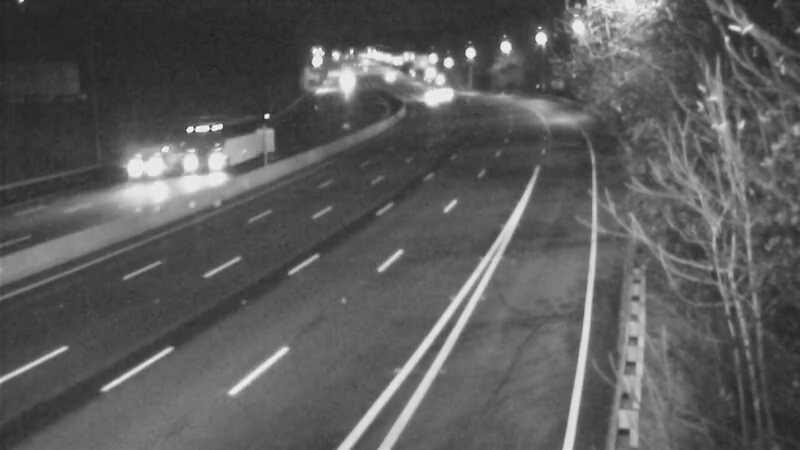vehicle: (111, 130, 191, 210), (171, 110, 251, 190), (364, 52, 414, 102), (421, 66, 471, 116), (399, 75, 449, 125)
